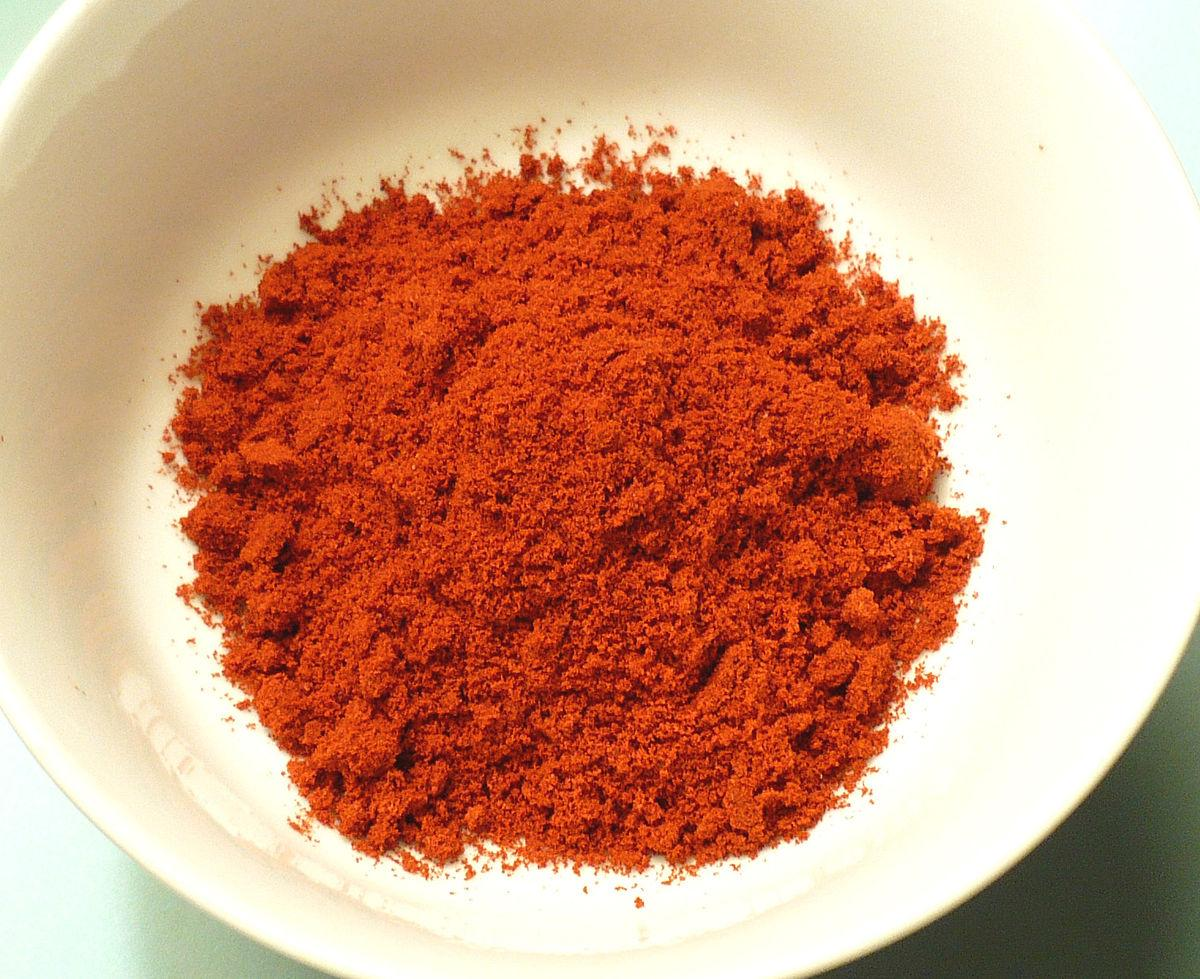paprika: (163, 118, 989, 881)
